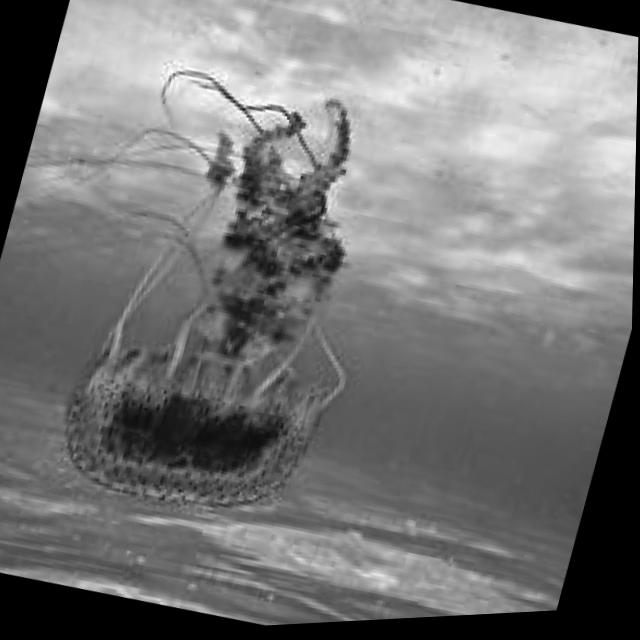Jellyfish: (28, 43, 431, 561)
